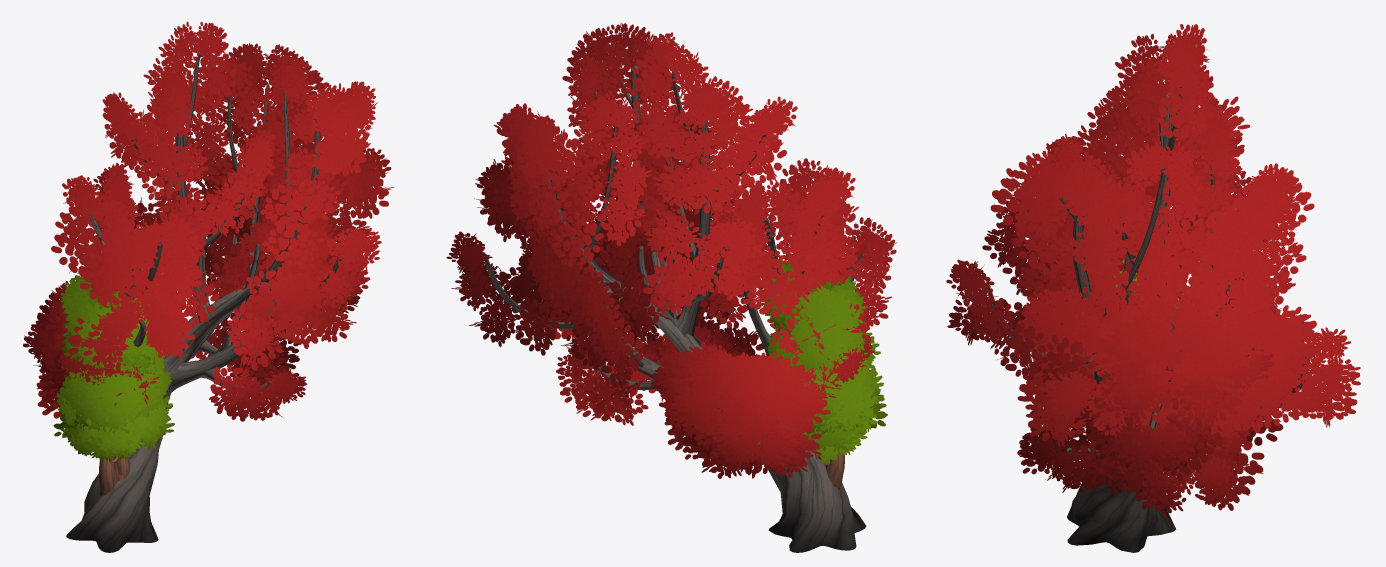
File: MegaBroadleaf.glb
3 views of the same model, side by side, from view 1: azimuth 30°, elevation 25°; view 2: azimuth 150°, elevation 25°; view 3: azimuth 270°, elevation 25° (orthographic). The views are drawn at different scales.
Parts seen in each view (by area): view 1: TwistedTree_1, CommonTree_3, CommonTree_1, CommonTree_2, CommonTree_4, CommonTree_5; view 2: TwistedTree_1, CommonTree_3, CommonTree_4, CommonTree_1, CommonTree_2, CommonTree_5; view 3: TwistedTree_1.
Part boxes in pixels (x1=…): TwistedTree_1: x1=23, y1=21, x2=394, y2=552; CommonTree_3: x1=60, y1=285, x2=172, y2=482; CommonTree_1: x1=53, y1=352, x2=174, y2=460; CommonTree_2: x1=56, y1=341, x2=172, y2=478; CommonTree_4: x1=64, y1=268, x2=158, y2=495; CommonTree_5: x1=61, y1=362, x2=162, y2=458; TwistedTree_1: x1=446, y1=22, x2=897, y2=552; CommonTree_3: x1=770, y1=263, x2=880, y2=467; CommonTree_4: x1=761, y1=259, x2=867, y2=489; CommonTree_1: x1=765, y1=333, x2=887, y2=463; CommonTree_2: x1=766, y1=331, x2=886, y2=443; CommonTree_5: x1=783, y1=345, x2=878, y2=464; TwistedTree_1: x1=946, y1=24, x2=1360, y2=552.
Size of the model in its own units: 13.56 by 16.77 by 11.55.
4 materials, 4 textured.
